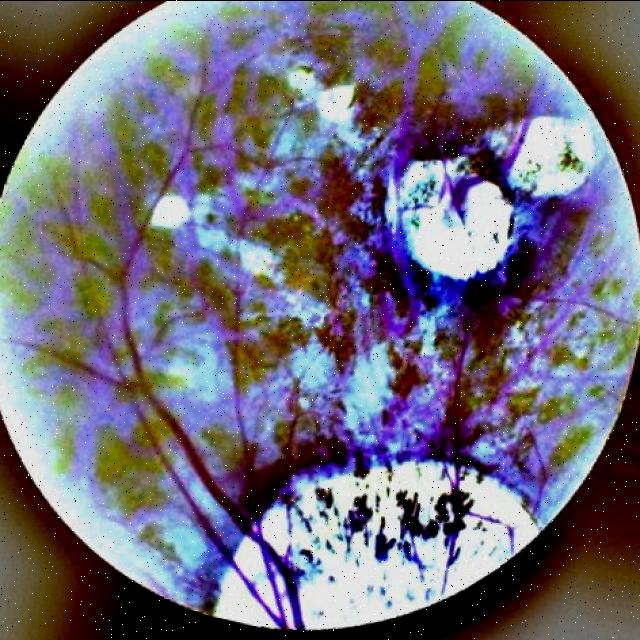Macula: (354, 237, 431, 325)
Nerves: (15, 188, 289, 626), (437, 285, 482, 586)
Optic Disk: (216, 458, 538, 628)
